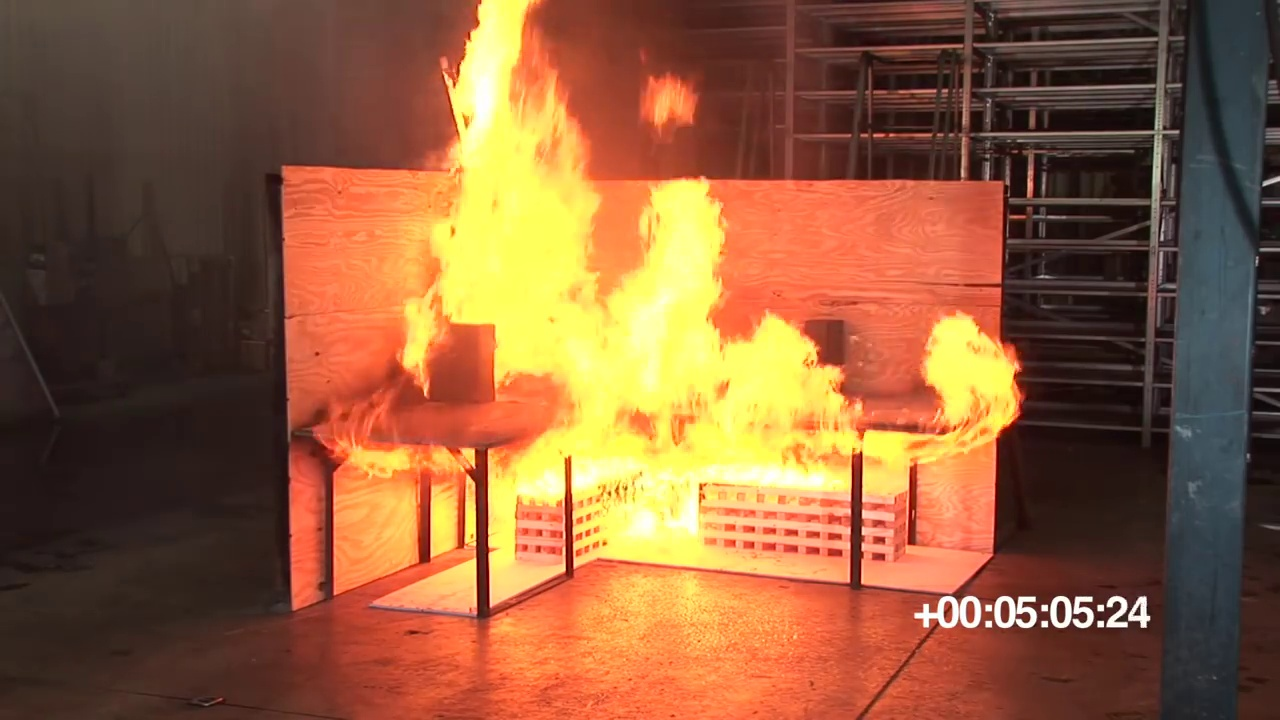fire: (404, 1, 599, 386), (601, 174, 863, 440), (490, 438, 906, 537), (921, 312, 1024, 447), (635, 74, 694, 127)
